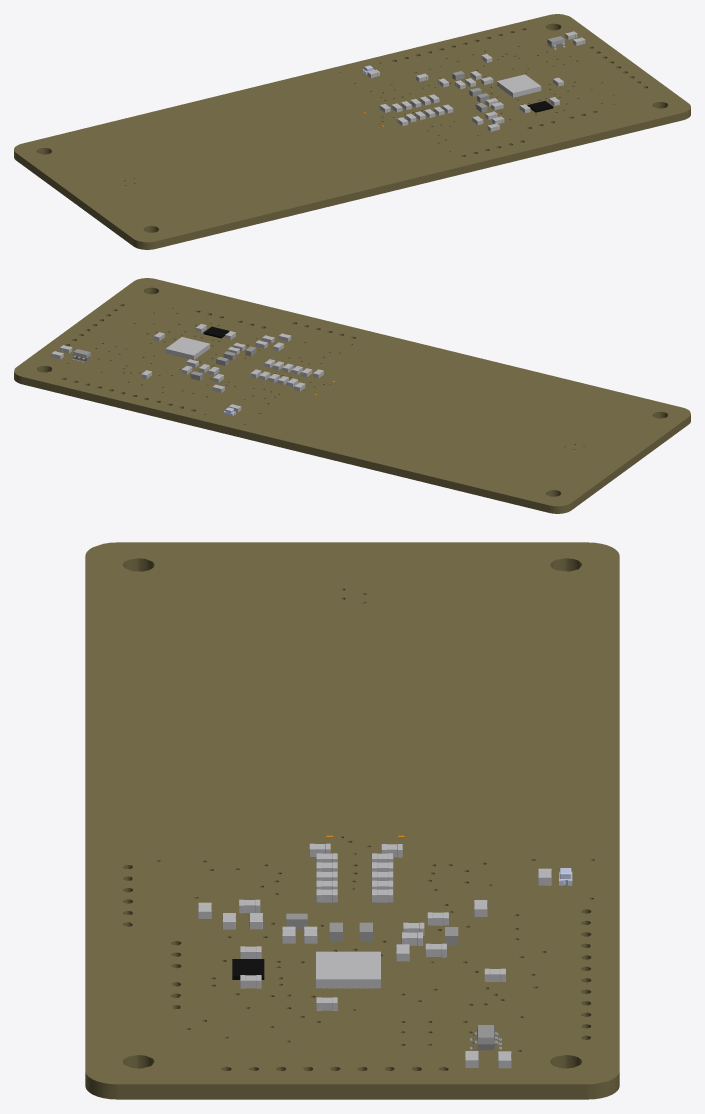
The model's file is ada-364.glb.
3 renders of one model, top to bottom at view 1: azimuth 30°, elevation 25°; view 2: azimuth 150°, elevation 25°; view 3: azimuth 270°, elevation 25°, orthographic. The views are drawn at different scales.
Parts seen in each view (by area): view 1: 0.16666666666666666_0.16666666666666666_0.08333333333333333_, 0.5833333333333334_0.5833333333333334_0.5833333333333334_0.8, 0.3333333333333333_0.3333333333333333_0.3333333333333333_0; view 2: 0.16666666666666666_0.16666666666666666_0.08333333333333333_, 0.5833333333333334_0.5833333333333334_0.5833333333333334_0.8, 0.3333333333333333_0.3333333333333333_0.3333333333333333_0; view 3: 0.16666666666666666_0.16666666666666666_0.08333333333333333_, 0.5833333333333334_0.5833333333333334_0.5833333333333334_0.8, 0.3333333333333333_0.3333333333333333_0.3333333333333333_0.
Part boxes in pixels (left/top/right/bottom): 0.16666666666666666_0.16666666666666666_0.08333333333333333_: left=14, top=14, right=690, bottom=249; 0.5833333333333334_0.5833333333333334_0.5833333333333334_0.8: left=367, top=31, right=585, bottom=131; 0.3333333333333333_0.3333333333333333_0.3333333333333333_0: left=452, top=36, right=565, bottom=112; 0.16666666666666666_0.16666666666666666_0.08333333333333333_: left=14, top=278, right=690, bottom=513; 0.5833333333333334_0.5833333333333334_0.5833333333333334_0.8: left=51, top=324, right=323, bottom=412; 0.3333333333333333_0.3333333333333333_0.3333333333333333_0: left=72, top=346, right=256, bottom=380; 0.16666666666666666_0.16666666666666666_0.08333333333333333_: left=85, top=542, right=619, bottom=1099; 0.5833333333333334_0.5833333333333334_0.5833333333333334_0.8: left=198, top=843, right=551, bottom=1068; 0.3333333333333333_0.3333333333333333_0.3333333333333333_0: left=286, top=913, right=501, bottom=1050.
Bounding box in the file's own units: 12 × 0.2969 × 5.
